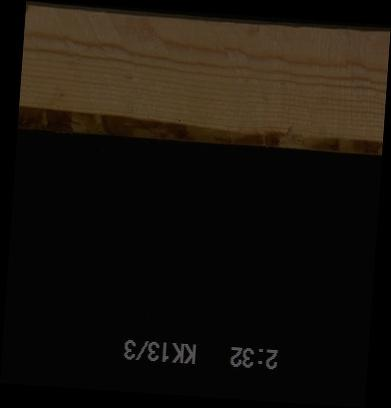wave: (17, 116, 382, 142)
